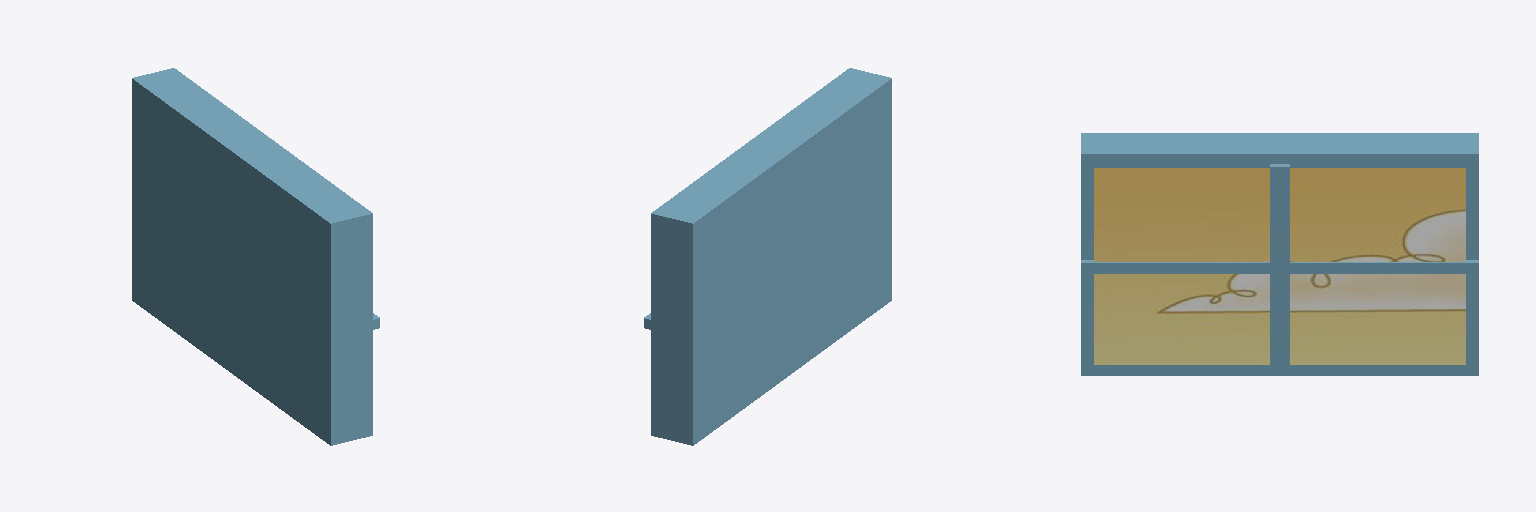
3 renders of one model, left to right at view 1: azimuth 30°, elevation 25°; view 2: azimuth 150°, elevation 25°; view 3: azimuth 270°, elevation 25°, orthographic.
Visible parts, largest first — view 1: pCube4; view 2: pCube4; view 3: pCube4.
Part boxes in pixels (x1,y1,x2,y2): pCube4: (132, 68, 379, 445); pCube4: (644, 68, 891, 445); pCube4: (1081, 133, 1478, 375).
Size of the model in its own units: 18.7 by 80 by 130.
2 materials, 2 textured.